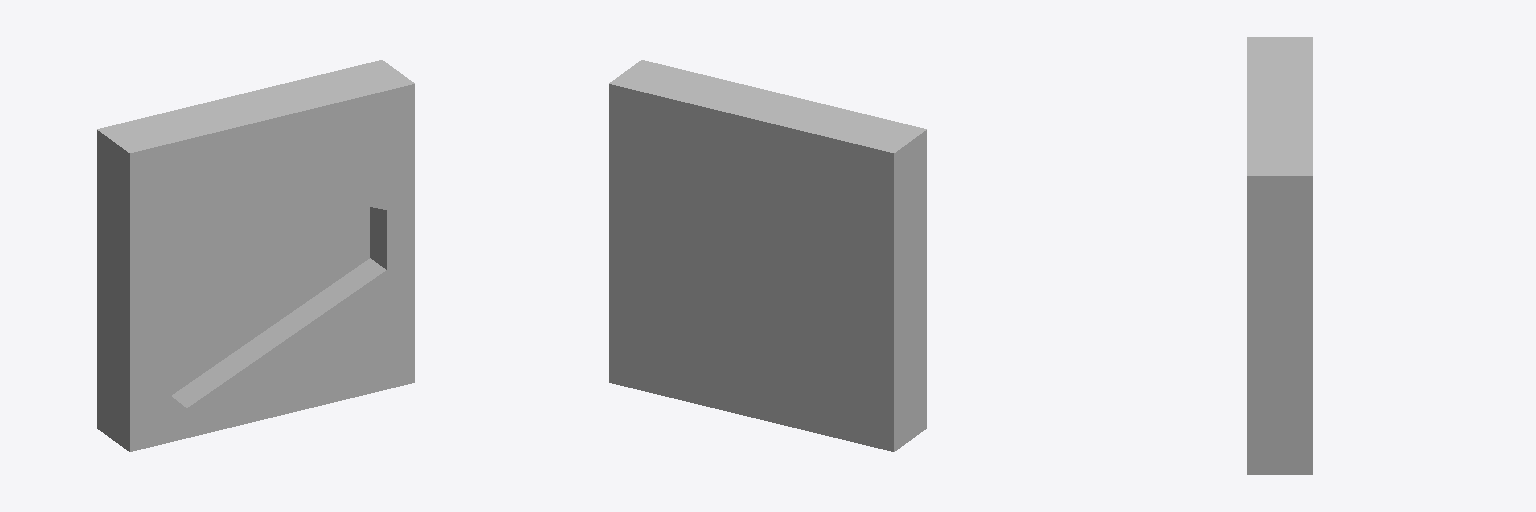
File: Conv.obj
3 views of the same model, side by side, from view 1: azimuth 30°, elevation 25°; view 2: azimuth 150°, elevation 25°; view 3: azimuth 270°, elevation 25° (orthographic).
Parts seen in each view (by area): view 1: Body1; view 2: Body1; view 3: Body1.
Part boxes in pixels (x1,y1,x2,y2): Body1: (97, 60, 414, 451); Body1: (609, 60, 926, 451); Body1: (1247, 37, 1312, 474).
Size of the model in its own units: 50 by 50 by 10.